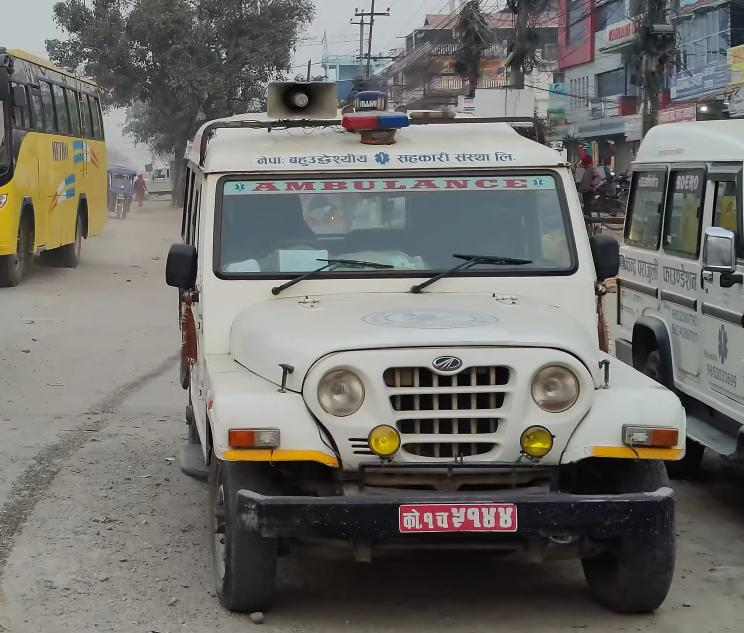ambulance: (158, 72, 689, 615), (613, 106, 744, 512)
bus: (0, 39, 113, 292)
